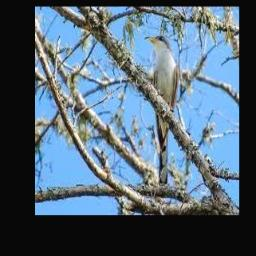Cuckoo: (146, 35, 179, 189)
